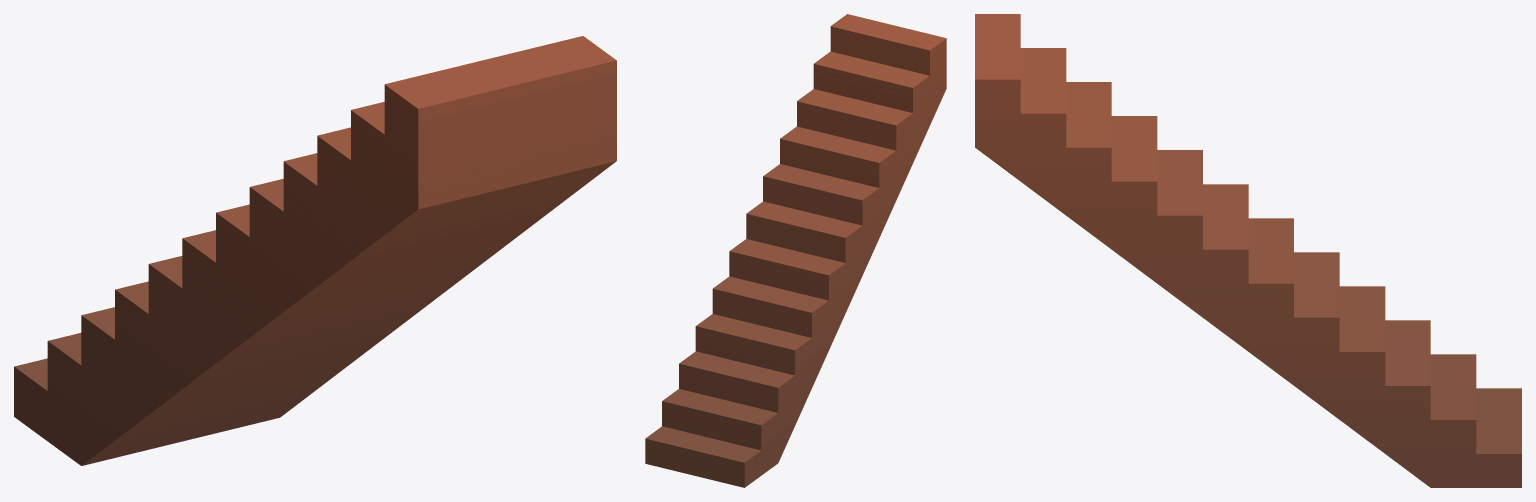
Rendered from stairs-stone.glb.
The picture shows the model from 3 angles, left to right: view 1: azimuth 30°, elevation 25°; view 2: azimuth 150°, elevation 25°; view 3: azimuth 270°, elevation 25°; orthographic projection. The views are drawn at different scales.
Visible parts, largest first — view 1: stairs-stone; view 2: stairs-stone; view 3: stairs-stone.
Part boxes in pixels (left/top/right/bottom): stairs-stone: left=14, top=36, right=616, bottom=465; stairs-stone: left=645, top=14, right=946, bottom=487; stairs-stone: left=975, top=14, right=1521, bottom=487.
Bounding box in the file's own units: 0.6975 × 2.02 × 2.46.
1 material, 1 textured.
